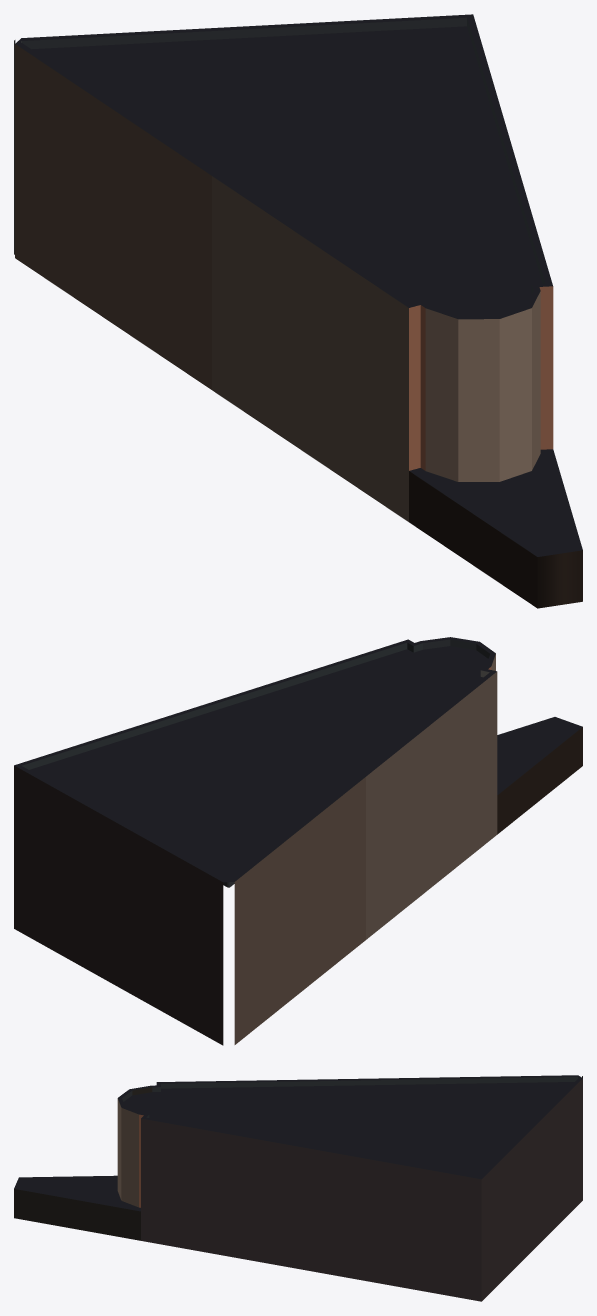
Rendered from 1012-market-street.glb.
3 views of the same model, one above another, from view 1: azimuth 30°, elevation 25°; view 2: azimuth 150°, elevation 25°; view 3: azimuth 270°, elevation 25° (orthographic). The views are drawn at different scales.
Parts seen in each view (by area): view 1: LOD0; view 2: LOD0; view 3: LOD0.
Boxes of the visible parts, x1,y1,x2,y2 form: LOD0: (14,14,582,608); LOD0: (14,637,582,1045); LOD0: (14,1075,582,1301).
Size of what is drawn, in the model's own units: 27.83 by 15.24 by 64.24.
2 materials, 2 textured.
